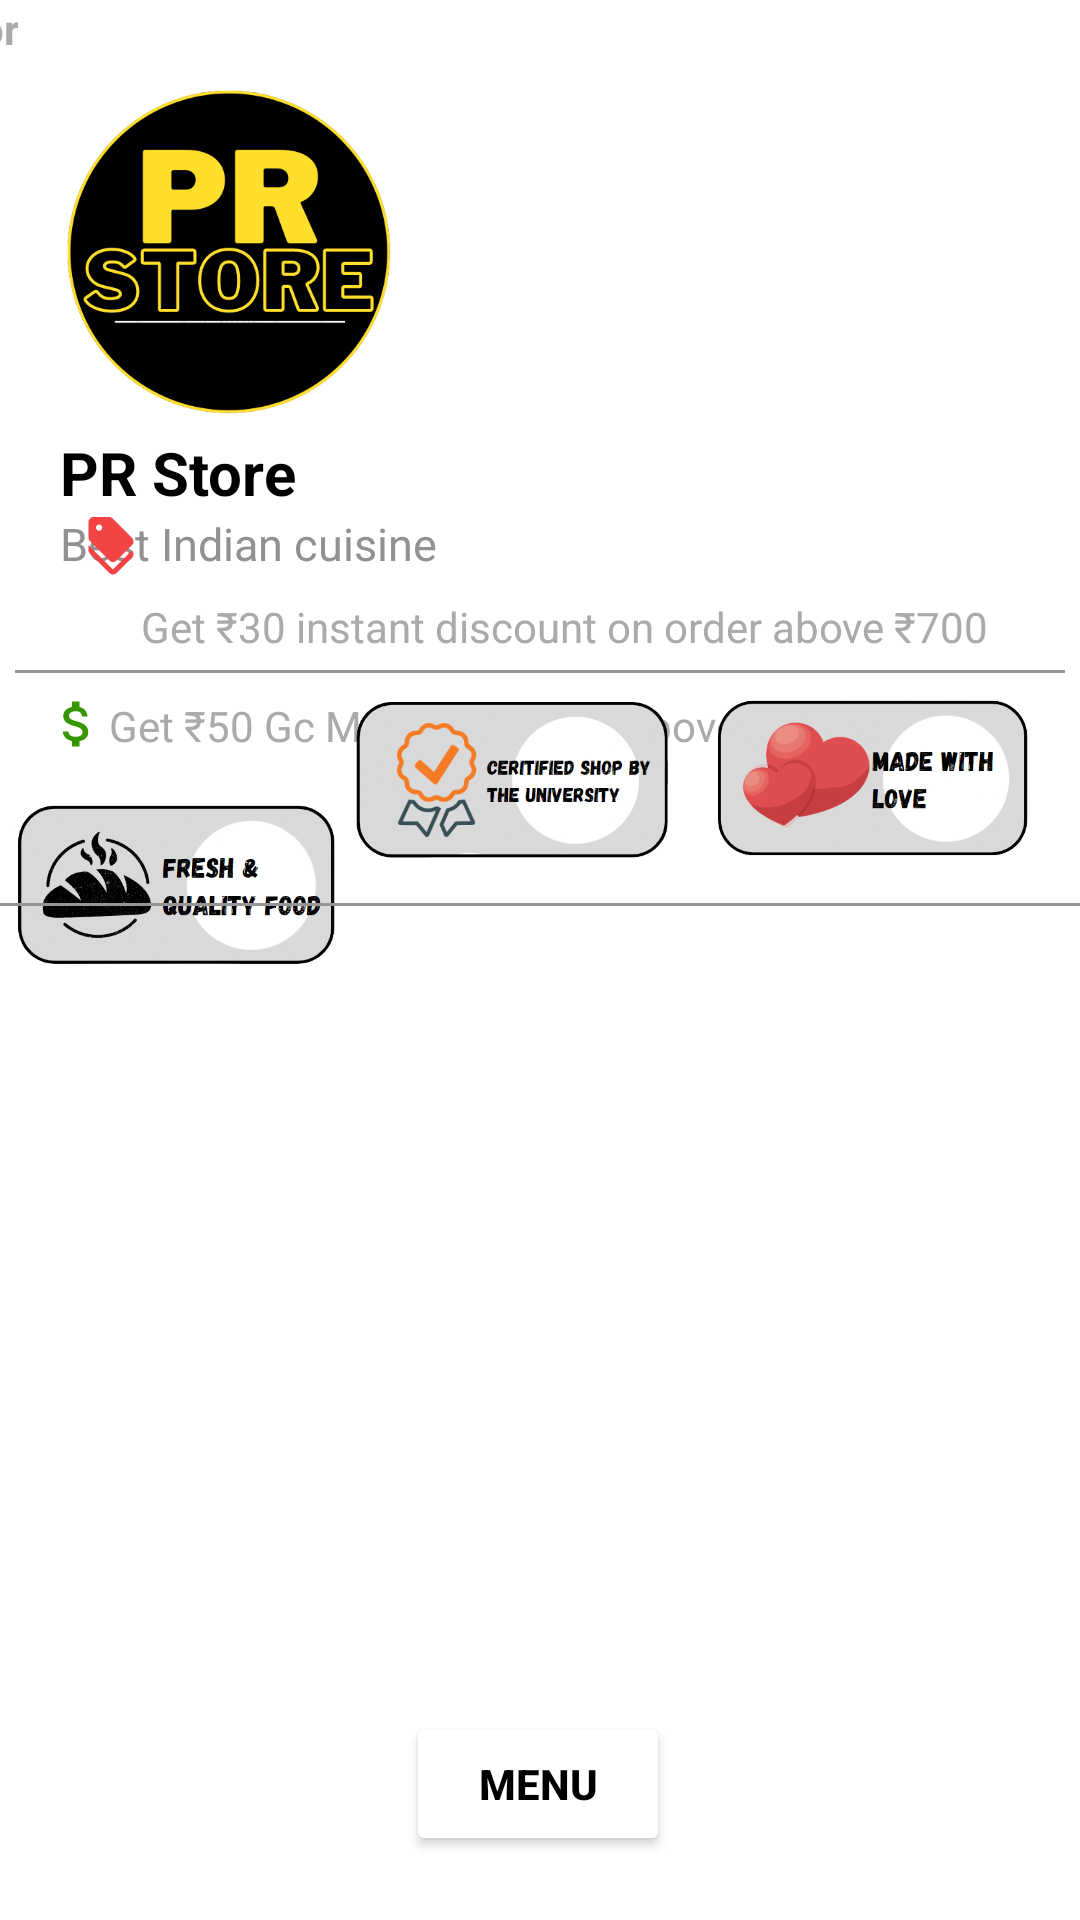

Icons on this 1080px×1920px Android screen, each with its box as (left=x1, top=y1, right=x2, bottom=y2):
attach money: (left=62, top=701, right=89, bottom=747)
